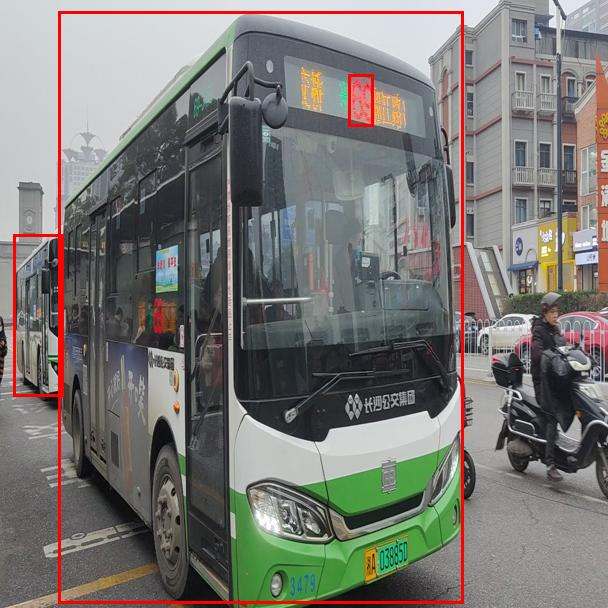bus: (58, 11, 463, 603), (13, 234, 63, 396)
screen: (348, 74, 373, 126)
